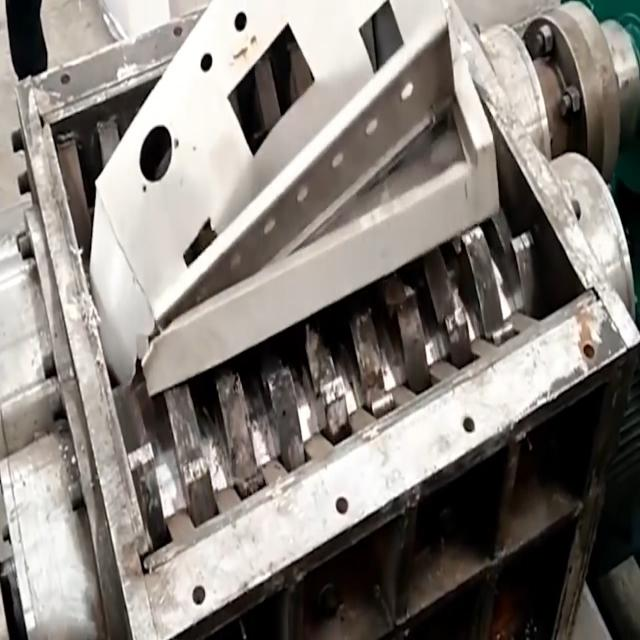Broyeur: (45, 15, 609, 581)
